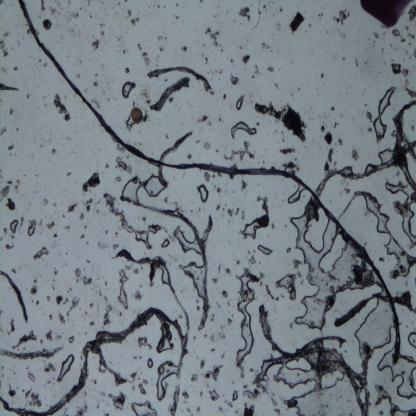Air bubble: (284, 206, 364, 328), (361, 191, 413, 277), (279, 363, 356, 415), (356, 300, 392, 367), (375, 348, 416, 400), (237, 268, 255, 370), (386, 183, 414, 247), (372, 382, 415, 416), (371, 87, 395, 142), (122, 172, 162, 204), (179, 259, 206, 298), (124, 221, 161, 249), (155, 360, 179, 401), (172, 226, 200, 254), (274, 271, 298, 301), (230, 119, 258, 139), (59, 354, 75, 381), (131, 400, 159, 414), (255, 362, 274, 382), (285, 358, 312, 372), (287, 183, 305, 204), (242, 220, 260, 240), (378, 148, 394, 164), (197, 182, 209, 203), (120, 81, 134, 99), (8, 218, 20, 234), (406, 329, 416, 348), (258, 244, 273, 255), (234, 97, 245, 110), (160, 237, 170, 249), (29, 221, 36, 236), (366, 162, 374, 172), (147, 358, 154, 368), (286, 246, 292, 253)
Background material: (254, 102, 308, 143), (226, 141, 256, 165), (102, 190, 124, 222), (256, 191, 272, 231), (0, 181, 17, 215), (52, 95, 71, 123), (72, 266, 94, 288), (16, 328, 38, 350), (23, 389, 45, 410), (288, 11, 305, 37), (106, 391, 127, 412), (240, 383, 264, 400), (321, 145, 335, 174), (113, 158, 133, 178), (263, 281, 281, 303), (202, 364, 224, 382), (82, 173, 100, 194), (332, 6, 350, 27), (390, 61, 410, 79), (206, 25, 221, 48), (100, 304, 114, 328), (136, 44, 150, 68), (66, 296, 80, 318), (31, 244, 50, 260), (62, 8, 81, 24), (136, 334, 152, 352), (238, 4, 253, 23), (155, 31, 167, 54), (241, 399, 257, 415), (72, 403, 90, 416), (5, 383, 18, 401), (276, 144, 297, 155), (28, 275, 38, 298), (0, 37, 10, 59), (82, 195, 94, 213), (0, 81, 19, 92), (224, 206, 241, 218), (100, 280, 110, 300), (280, 160, 298, 171), (94, 235, 108, 249), (42, 361, 56, 375), (84, 300, 96, 316), (228, 71, 240, 87), (267, 391, 278, 407), (208, 387, 220, 401), (406, 30, 416, 46), (292, 256, 302, 272), (42, 19, 55, 31), (182, 404, 194, 416), (57, 310, 66, 326), (139, 380, 148, 396), (405, 85, 416, 98), (201, 139, 211, 153), (203, 169, 212, 184), (66, 201, 77, 213), (55, 295, 65, 308), (200, 109, 208, 125), (44, 329, 53, 343), (141, 89, 150, 103), (230, 388, 239, 402), (349, 150, 359, 162), (18, 214, 26, 229), (241, 52, 251, 64), (134, 287, 142, 302), (272, 18, 282, 30), (6, 140, 16, 152), (91, 37, 100, 50), (27, 370, 36, 383), (48, 5, 58, 16), (221, 288, 230, 300), (90, 78, 99, 90), (249, 255, 258, 267), (127, 6, 135, 19), (324, 132, 332, 145), (214, 405, 225, 414), (4, 242, 15, 251), (38, 195, 49, 204), (252, 66, 259, 80), (42, 380, 54, 388), (180, 42, 189, 52), (270, 82, 280, 91), (337, 135, 345, 146), (129, 19, 141, 26), (8, 320, 14, 334), (100, 24, 107, 36), (143, 110, 150, 122), (239, 182, 248, 191), (215, 67, 224, 76), (262, 40, 272, 48), (44, 294, 54, 302), (372, 29, 380, 39), (48, 146, 58, 154), (91, 375, 98, 386), (219, 328, 226, 339), (121, 46, 128, 57), (0, 126, 8, 135), (218, 112, 224, 124), (226, 316, 232, 328), (78, 209, 84, 221), (50, 230, 59, 238), (50, 280, 56, 292), (104, 160, 111, 170), (40, 0, 46, 11), (124, 66, 132, 74), (47, 312, 55, 320), (267, 65, 275, 73), (45, 221, 54, 228), (345, 184, 352, 193), (114, 241, 120, 251), (68, 336, 74, 346), (366, 112, 372, 122), (264, 3, 271, 11), (277, 5, 284, 13), (66, 170, 74, 177), (392, 29, 400, 36), (88, 320, 96, 327), (378, 255, 386, 262), (217, 184, 223, 193), (211, 312, 216, 322), (200, 358, 205, 368), (195, 404, 200, 414), (203, 55, 208, 65), (227, 401, 234, 408), (274, 408, 280, 416), (212, 148, 220, 154), (213, 205, 221, 211), (412, 46, 416, 58), (9, 106, 14, 115), (320, 124, 325, 133), (235, 258, 242, 264), (335, 120, 340, 128), (226, 266, 231, 274), (320, 72, 325, 80), (210, 347, 216, 353), (214, 277, 219, 284), (183, 392, 188, 399), (223, 92, 227, 100), (211, 334, 215, 342), (331, 104, 335, 112), (12, 66, 18, 71), (55, 269, 59, 276), (105, 228, 109, 235), (356, 54, 358, 68), (193, 375, 197, 382), (4, 226, 8, 233), (200, 392, 205, 397), (241, 372, 245, 378), (272, 219, 274, 230), (235, 408, 238, 415), (80, 235, 86, 238), (175, 2, 178, 8), (0, 0, 4, 4), (37, 302, 40, 307), (114, 232, 119, 235), (178, 15, 180, 20), (85, 228, 87, 230)
Cellulose filter fibre: (0, 309, 185, 415), (122, 251, 194, 414), (124, 199, 214, 328), (306, 134, 416, 214), (257, 303, 348, 359), (334, 292, 414, 326), (158, 128, 192, 188), (147, 65, 213, 93), (340, 354, 370, 414), (0, 270, 29, 324), (149, 76, 190, 112), (395, 98, 416, 165), (0, 344, 62, 358)
Cotton: (18, 0, 401, 362)
Diatom: (130, 107, 144, 126)
Pen: (360, 0, 413, 26)
